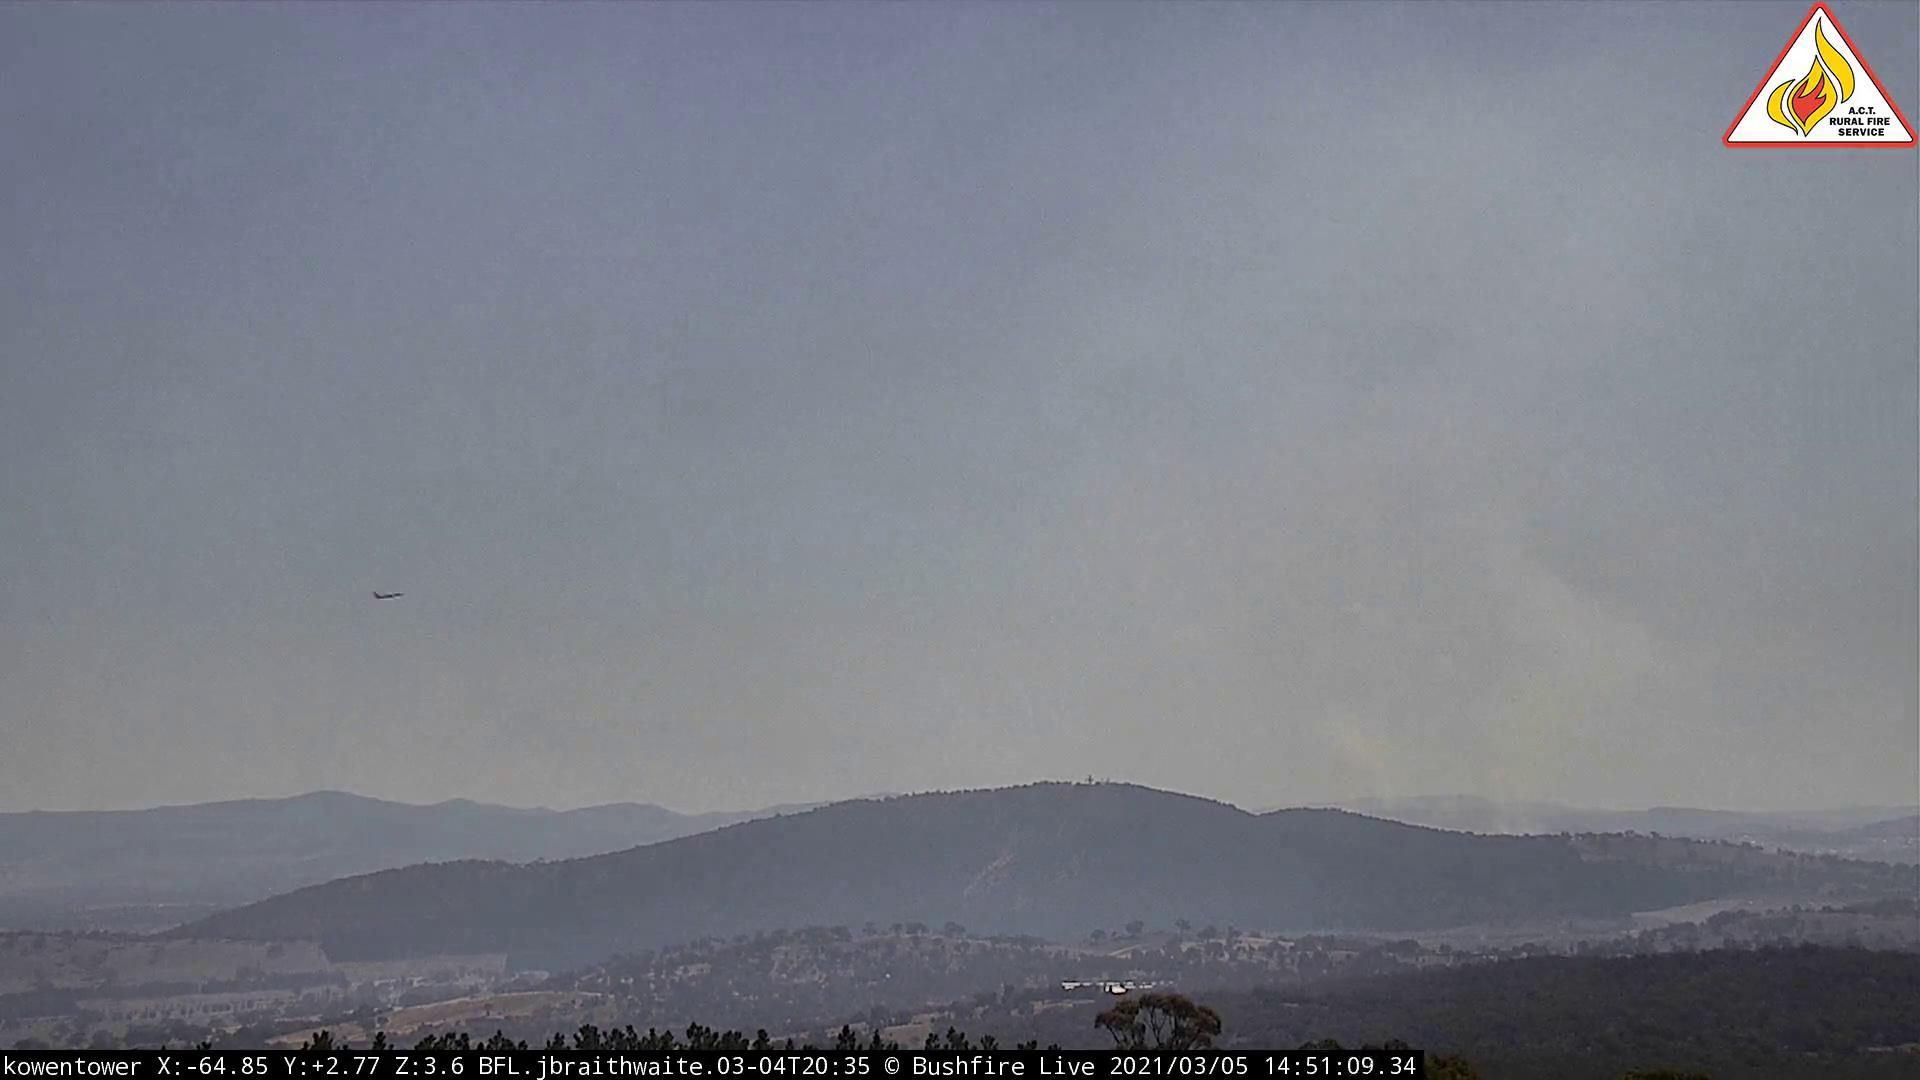Smoke: (1077, 355, 1800, 844)
